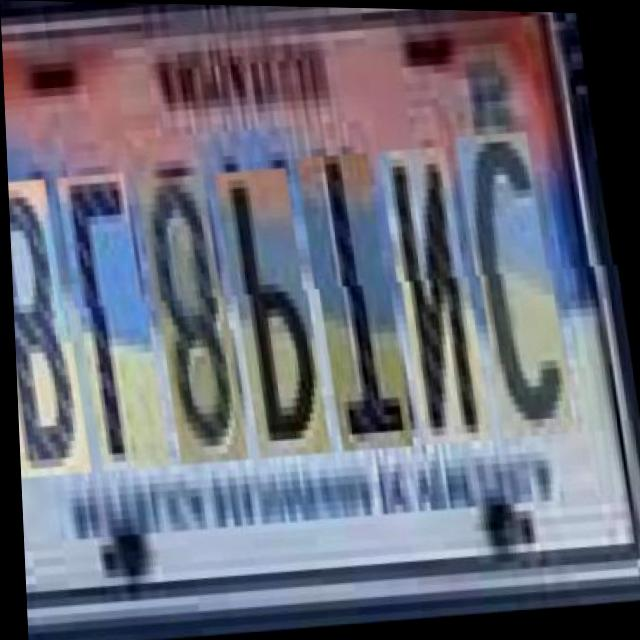8: (148, 178, 249, 470)
b: (6, 181, 91, 481)
c: (469, 141, 577, 450)
l: (68, 175, 169, 475)
n: (391, 154, 492, 455)
p: (228, 174, 331, 466)
t: (308, 160, 414, 460)
